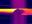Hotspot: (0, 9, 16, 14)
